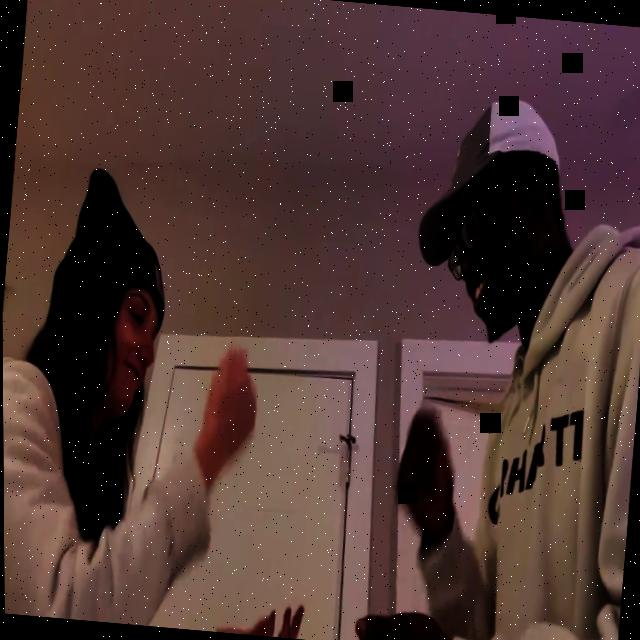Rock: (389, 407, 460, 532), (199, 348, 263, 458)
